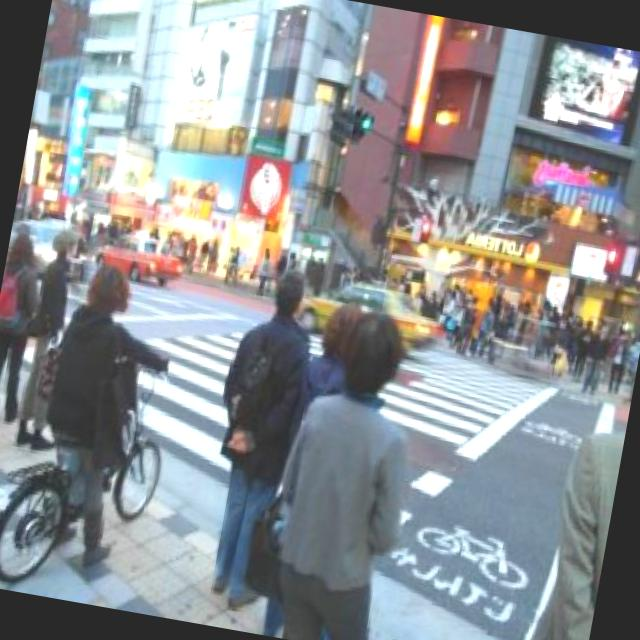Person: (256, 306, 423, 640), (186, 267, 318, 613), (10, 219, 86, 449), (0, 230, 49, 426)
